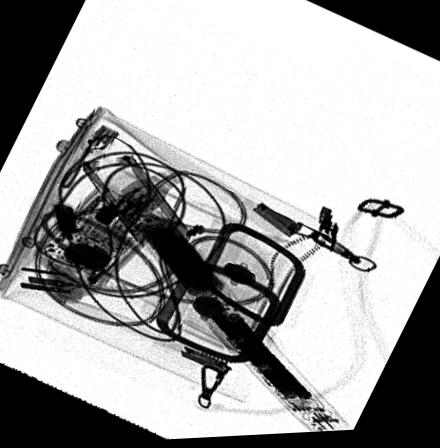Baton: (81, 155, 349, 435)
